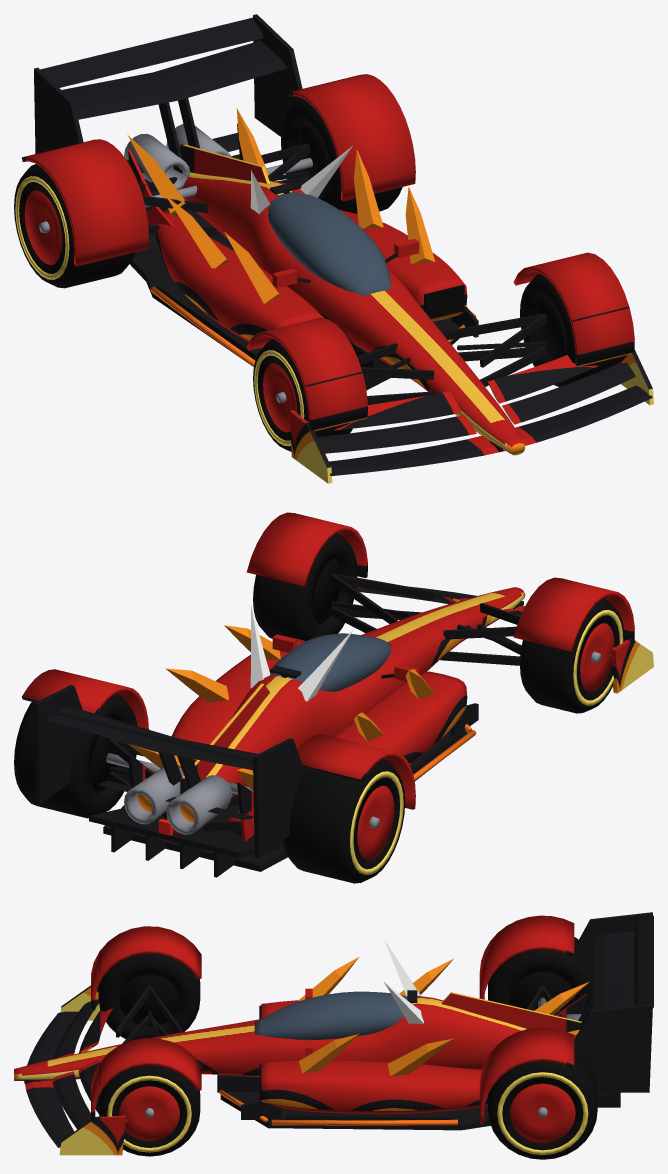
The model's file is volcano_c.fbx.
3 renders of one model, top to bottom at view 1: azimuth 30°, elevation 25°; view 2: azimuth 150°, elevation 25°; view 3: azimuth 270°, elevation 25°, orthographic. The views are drawn at different scales.
Visible parts, largest first — view 1: Body, Trim, Glass, Glow, Wheel_RL, Wheel_FL, Wheel_RR, Wheel_FR, Acc; view 2: Body, Trim, Wheel_RL, Wheel_FL, Wheel_FR, Wheel_RR, Glow, Glass, Acc; view 3: Body, Wheel_RR, Trim, Wheel_FR, Wheel_FL, Glass, Glow, Wheel_RL, Acc.
Part boxes in pixels (box(x1,y1,x2,y2)): Body: box(21, 14, 653, 483); Trim: box(124, 88, 547, 451); Glass: box(268, 192, 391, 295); Glow: box(127, 108, 476, 366); Wheel_RL: box(14, 164, 135, 288); Wheel_FL: box(253, 339, 352, 451); Wheel_RR: box(281, 99, 402, 213); Wheel_FR: box(520, 274, 622, 386); Acc: box(250, 145, 353, 214); Body: box(22, 512, 653, 857); Trim: box(89, 573, 523, 877); Wheel_RL: box(282, 759, 405, 883); Wheel_FL: box(520, 598, 624, 713); Wheel_FR: box(253, 533, 357, 640); Wheel_RR: box(14, 694, 137, 818); Glow: box(128, 625, 476, 841); Glass: box(270, 633, 391, 691); Acc: box(250, 604, 352, 701); Body: box(14, 912, 653, 1155); Wheel_RR: box(488, 1050, 597, 1159); Trim: box(24, 978, 620, 1130); Wheel_FR: box(98, 1065, 200, 1156); Wheel_FL: box(98, 953, 200, 1039); Glass: box(254, 991, 412, 1039); Glow: box(219, 957, 588, 1125); Wheel_RL: box(488, 937, 593, 1015); Acc: box(384, 939, 423, 1024).
Size of the model in its own units: 9.91 by 4.38 by 18.88.
Materials: 5 (1 with a texture image).
